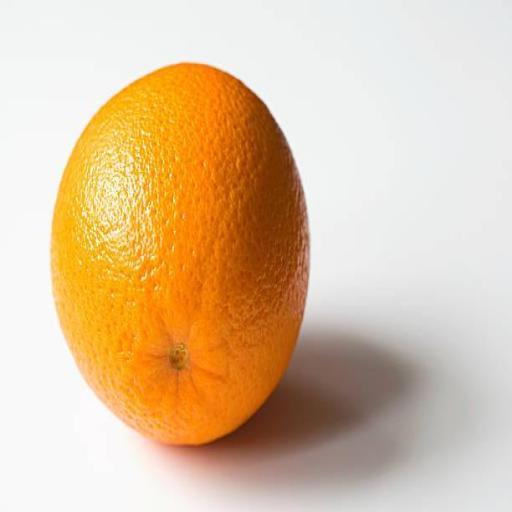orange: (52, 64, 308, 444)
